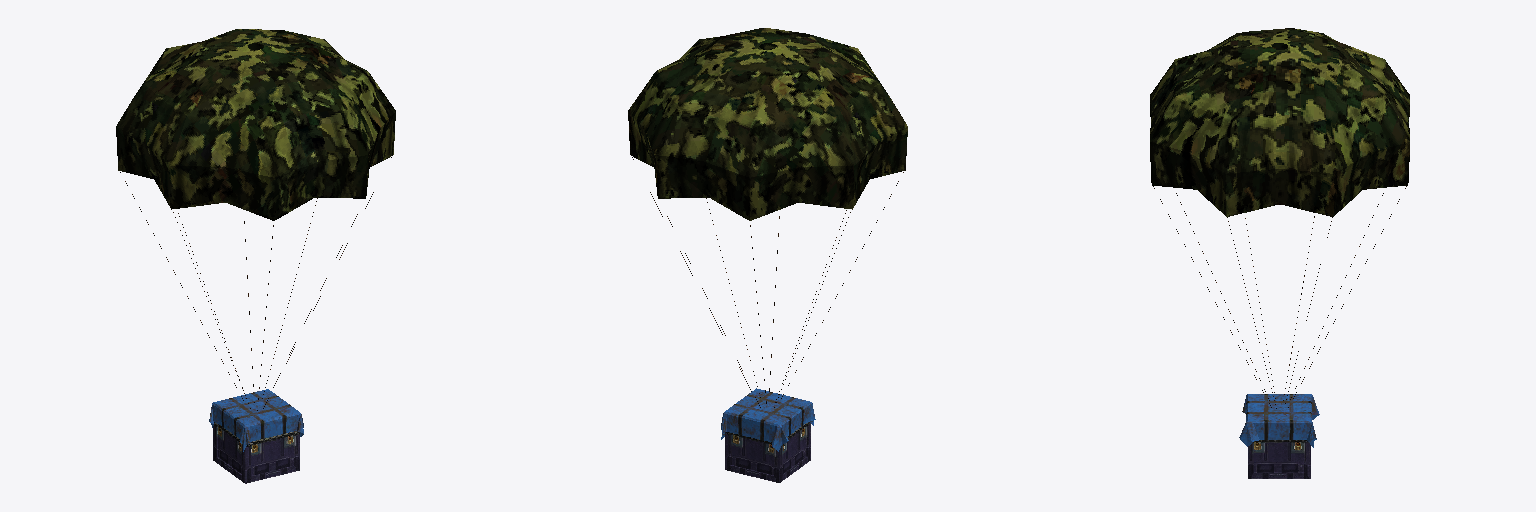
3 views of the same model, side by side, from view 1: azimuth 30°, elevation 25°; view 2: azimuth 150°, elevation 25°; view 3: azimuth 270°, elevation 25° (orthographic).
Parts seen in each view (by area): view 1: Object_10, PickUp_Airdrop_B_PickUp_CarePackage_B_D_0; view 2: Object_10, PickUp_Airdrop_B_PickUp_CarePackage_B_D_0; view 3: Object_10, PickUp_Airdrop_B_PickUp_CarePackage_B_D_0.
Boxes of the visible parts, x1=… form: Object_10: x1=116, y1=29, x2=395, y2=410; PickUp_Airdrop_B_PickUp_CarePackage_B_D_0: x1=209, y1=389, x2=303, y2=483; Object_10: x1=628, y1=28, x2=907, y2=407; PickUp_Airdrop_B_PickUp_CarePackage_B_D_0: x1=721, y1=388, x2=815, y2=482; Object_10: x1=1150, y1=28, x2=1409, y2=408; PickUp_Airdrop_B_PickUp_CarePackage_B_D_0: x1=1239, y1=394, x2=1319, y2=478.
Bounding box in the file's own units: 3.94 × 6.98 × 3.94.
2 materials, 2 textured.